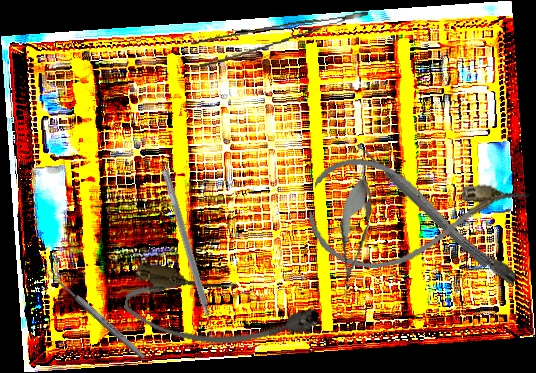Cannula: (302, 152, 531, 294), (120, 259, 322, 366)
Micro Scissor: (329, 171, 378, 302)
Pusher: (353, 140, 492, 270)
Spatula Surgical: (154, 169, 220, 340)
Surgical Spoon: (45, 268, 147, 361)
Tissue Forceps: (190, 11, 372, 68)
